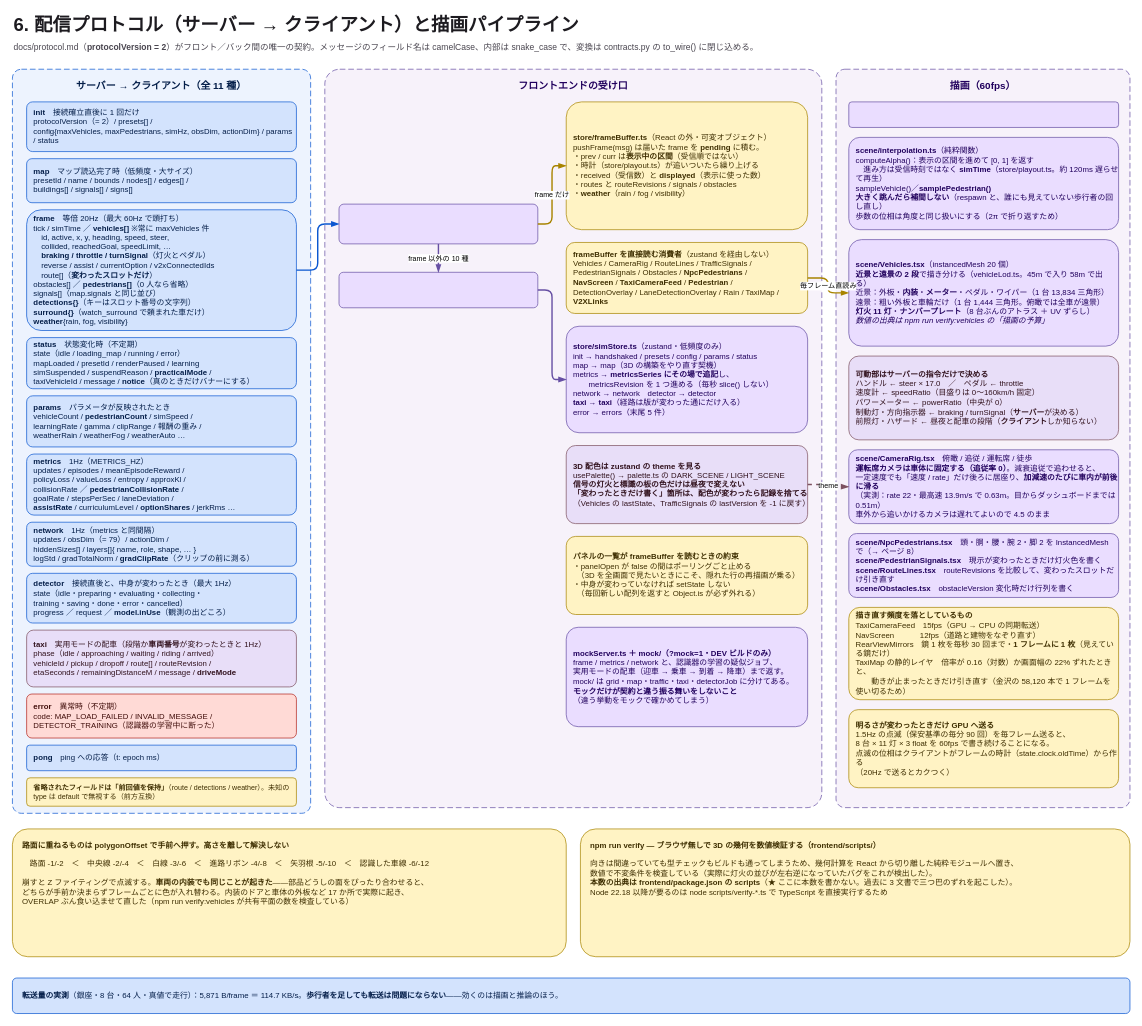
Some shapes in this 1142 by 1026 pixel diagram are drawn without their labels. The shapes that lost their labels are listed below. From the top down, each one's centre as x and y in pixels, then its label:
At [983,114]: "useFrame（@react-three/fiber・rAF 駆動 60fps）".
At [438,223]: "store/connection.ts handleRaw() JSON パース → type の存在チェック（ 唯一の入口 ）".
At [438,290]: "simStore.applyServerMessage(msg) switch (msg.type) で振り分ける".
